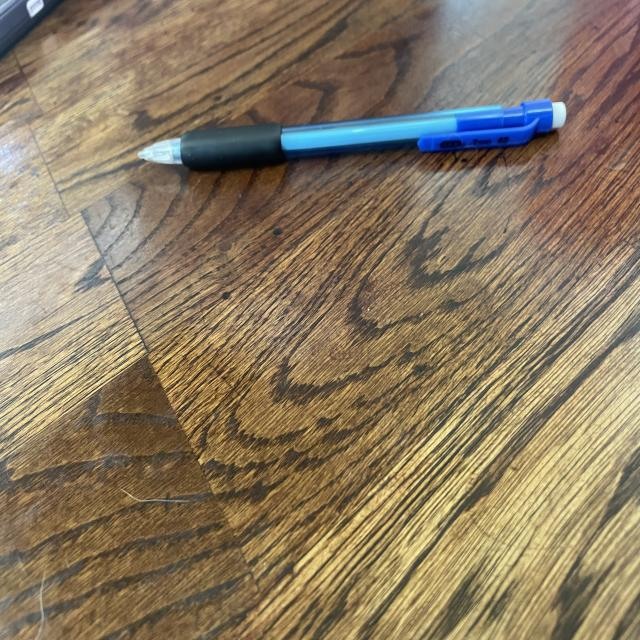mechanical-pencils: (136, 103, 566, 174)
